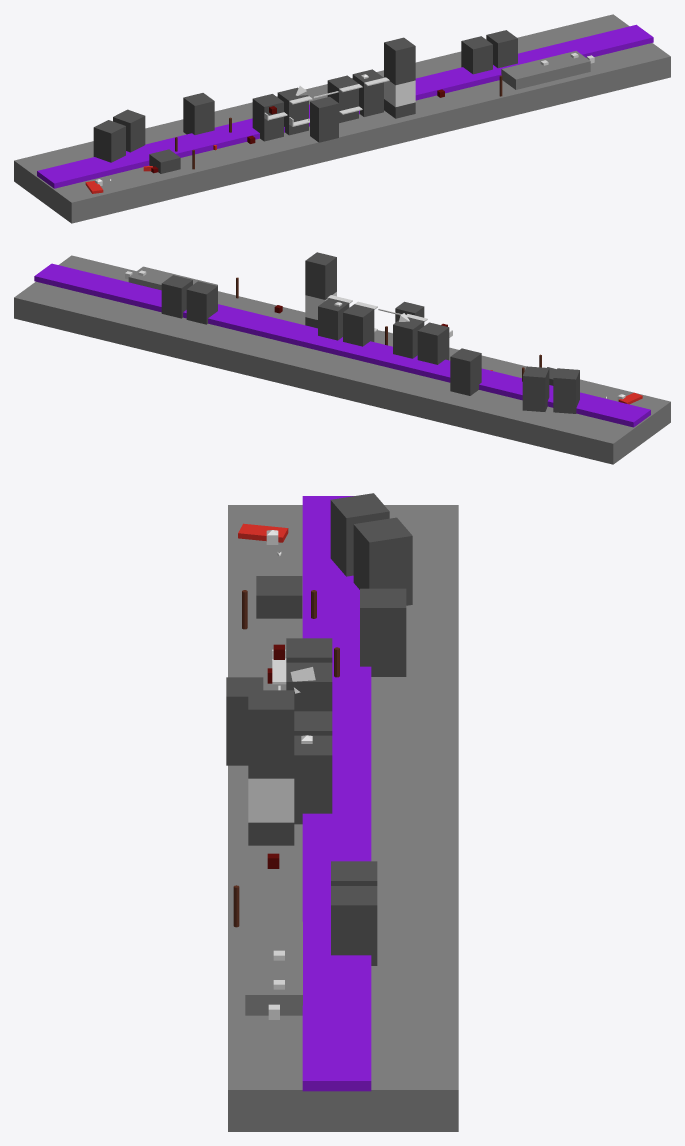
File: map_city.gltf
3 renders of one model, top to bottom at view 1: azimuth 30°, elevation 25°; view 2: azimuth 150°, elevation 25°; view 3: azimuth 270°, elevation 25°, orthographic. The views are drawn at different scales.
Visible parts, largest first — view 1: Ground.007, Flora, Ground.006, Blok.004, Blok.003, Blok.001, Blok.011, Blok.008, Blok.019, Blok.009, Blok.010, Blok.007 (+5 smaller); view 2: Ground.007, Flora, Blok.004, Blok.003, Blok.008, Blok, Blok.010, Blok.001, Blok.019, Blok.018, Blok.009, Blok.007 (+3 smaller); view 3: Ground.007, Flora, Ground.006, Blok.004, Blok, Blok.003, Blok.018, Blok.009, Blok.001, Blok.011, ground.010, Obstacle_house (+5 smaller).
Part boxes in pixels (box(x1,y1,x2,y2)): Ground.007: box(14, 14, 670, 223); Flora: box(37, 24, 653, 188); Ground.006: box(501, 50, 590, 89); Blok.004: box(384, 37, 415, 85); Blok.003: box(183, 93, 214, 134); Blok.001: box(93, 120, 125, 162); Blok.011: box(310, 96, 338, 142); Blok.008: box(252, 94, 283, 141); Blok.019: box(461, 36, 492, 74); Blok.009: box(352, 69, 383, 116); Blok.010: box(327, 75, 358, 123); Blok.007: box(277, 87, 308, 135); Ground.007: box(14, 255, 670, 464); Flora: box(34, 263, 650, 427); Blok.004: box(305, 252, 336, 299); Blok.003: box(450, 348, 481, 395); Blok.008: box(417, 322, 449, 364); Blok: box(522, 366, 549, 411); Blok.010: box(343, 304, 374, 346); Blok.001: box(553, 368, 579, 413); Blok.019: box(186, 281, 217, 324); Blok.018: box(161, 275, 192, 318); Blok.009: box(318, 298, 349, 340); Blok.007: box(393, 317, 424, 358); Ground.007: box(228, 505, 458, 1131); Flora: box(302, 496, 371, 1091); Ground.006: box(245, 921, 302, 1015); Blok.004: box(248, 690, 294, 778); Blok: box(353, 517, 412, 605); Blok.003: box(360, 588, 406, 676); Blok.018: box(331, 886, 377, 965); Blok.009: box(294, 735, 332, 824); Blok.001: box(330, 493, 389, 576); Blok.011: box(226, 677, 263, 765); ground.010: box(248, 778, 294, 822); Obstacle_house: box(256, 576, 302, 618).
Bounding box in the file's own units: 120 × 17 × 20.15.
